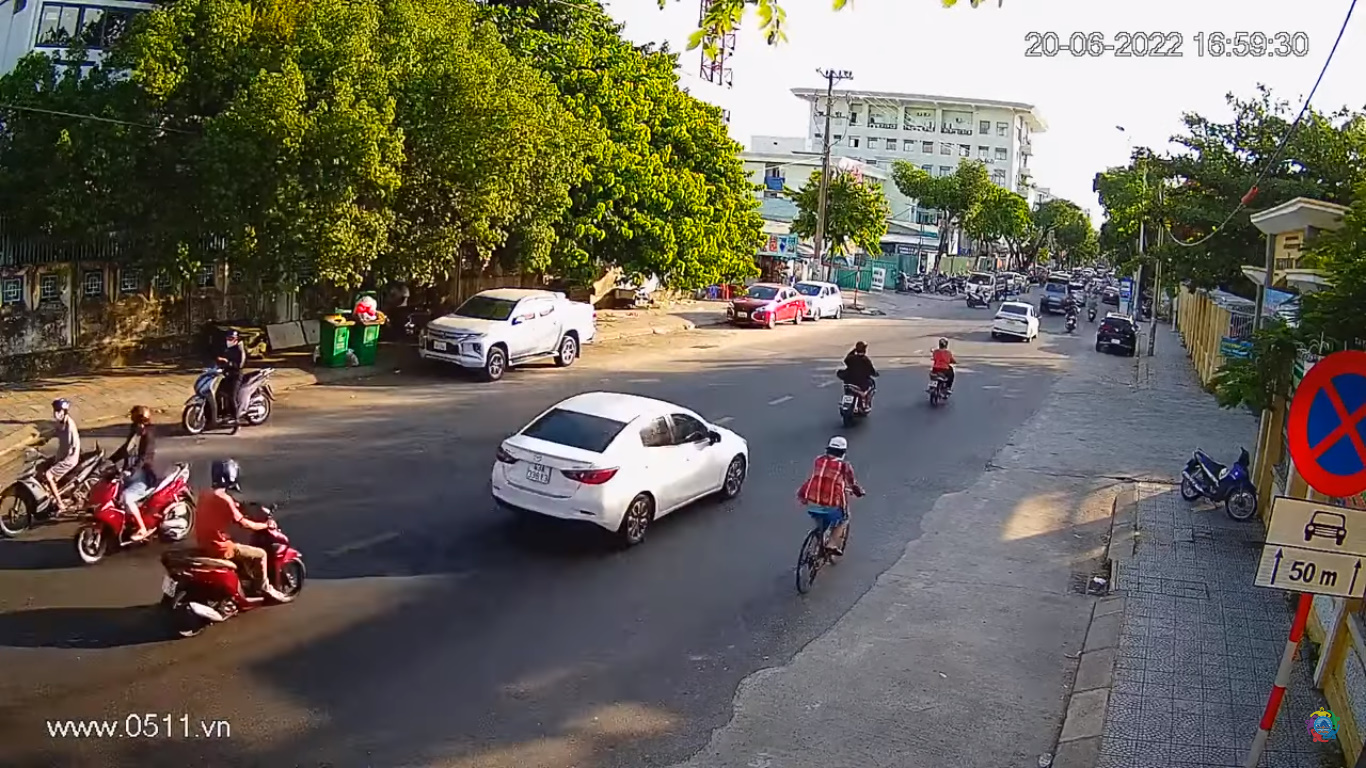car: (490, 392, 753, 553)
